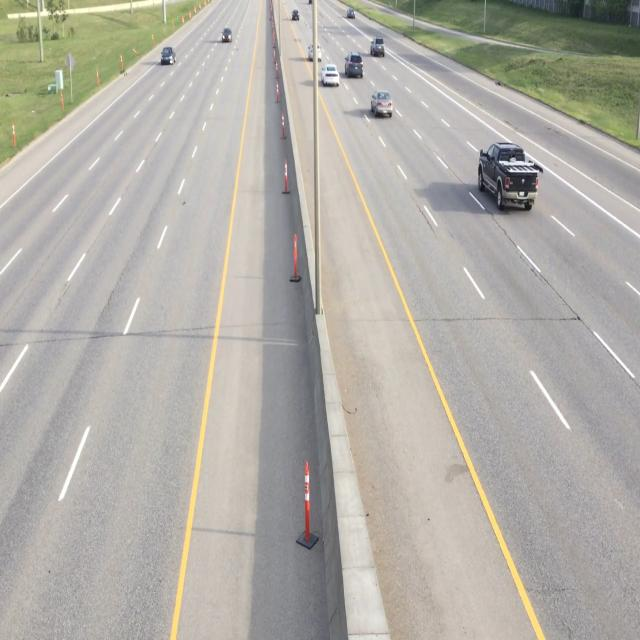Car: (478, 140, 540, 214), (371, 88, 395, 120), (343, 51, 365, 79), (321, 63, 341, 91), (370, 34, 386, 61), (159, 43, 176, 68)
